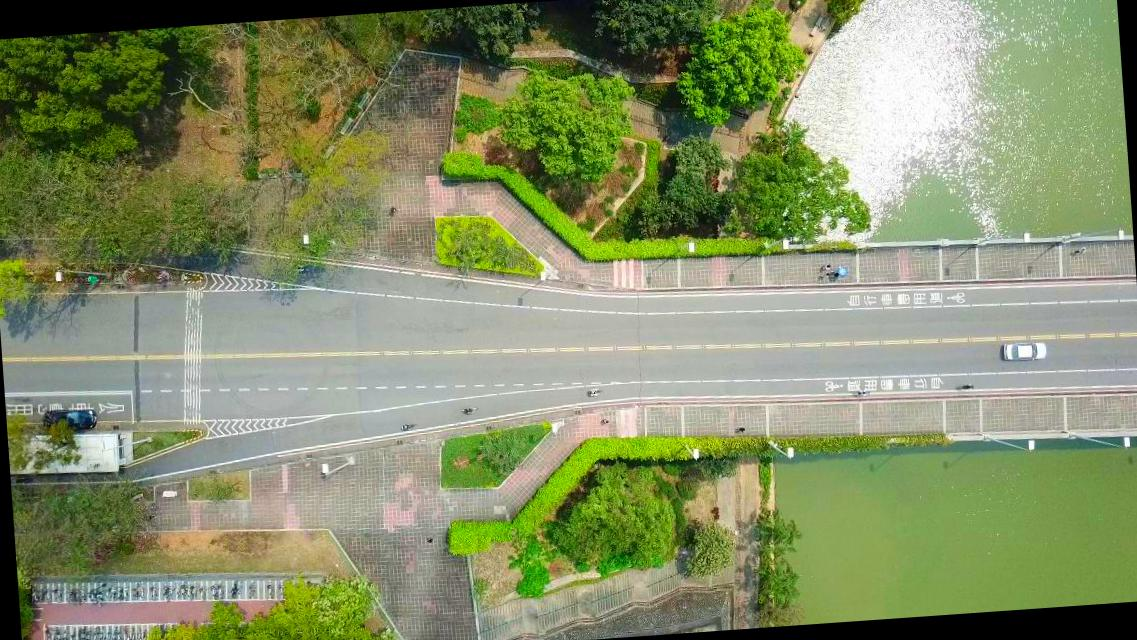vehicle: (44, 408, 96, 432), (1002, 340, 1046, 362)
